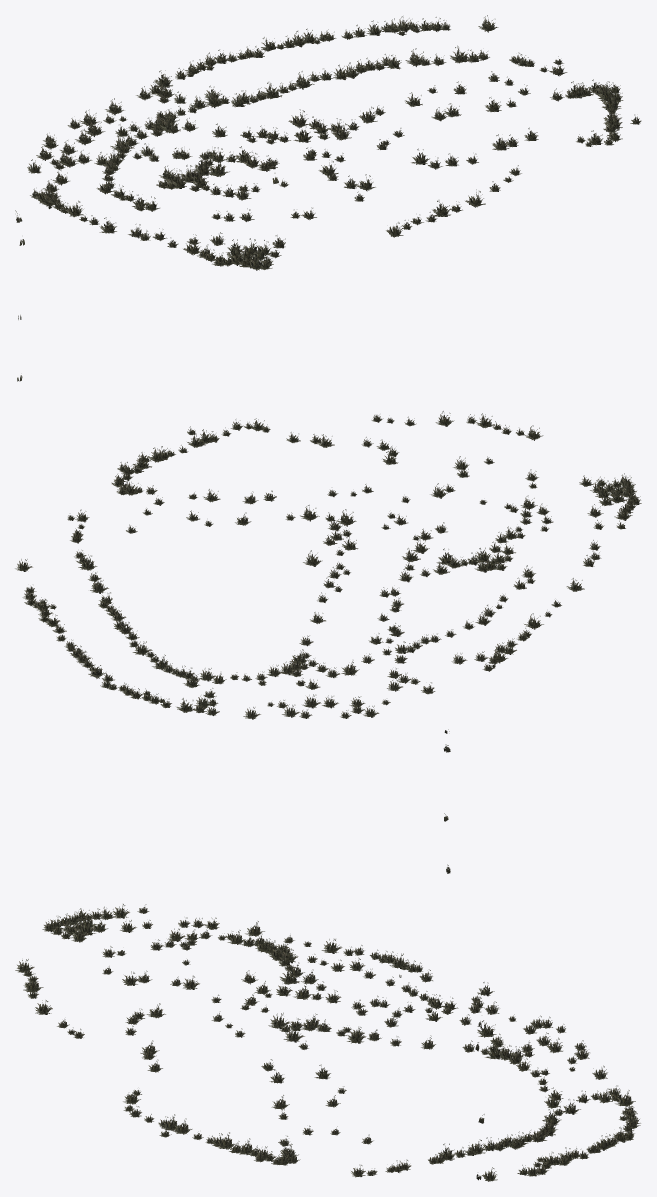
The model's file is grass02.fbx.
3 renders of one model, top to bottom at view 1: azimuth 30°, elevation 25°; view 2: azimuth 150°, elevation 25°; view 3: azimuth 270°, elevation 25°, orthographic. The views are drawn at different scales.
Visible parts, largest first — view 1: m001201_0:2, m001201_0:3, m001201_0:1; view 2: m001201_0:2, m001201_0:3, m001201_0:1; view 3: m001201_0:2, m001201_0:3, m001201_0:1.
Boxes of the visible parts, x1,y1,x2,y2 form: m001201_0:2: (79, 79, 641, 270); m001201_0:3: (27, 70, 321, 217); m001201_0:1: (175, 15, 567, 183); m001201_0:2: (111, 411, 641, 617); m001201_0:3: (160, 535, 543, 719); m001201_0:1: (15, 508, 249, 707); m001201_0:2: (15, 904, 330, 1165); m001201_0:3: (314, 939, 636, 1113); m001201_0:1: (315, 1064, 640, 1181).
Bounding box in the file's own units: 190995 × 105822 × 205624.
Materials: 7 (7 with a texture image).
